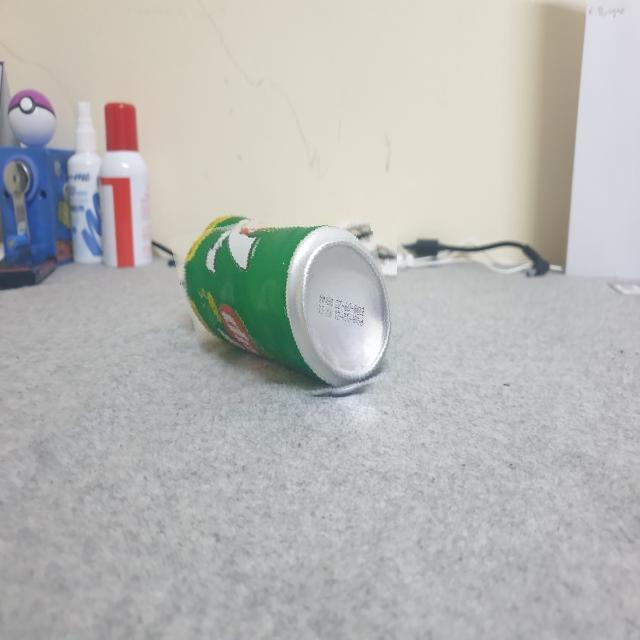recyclable: (179, 201, 397, 404)
